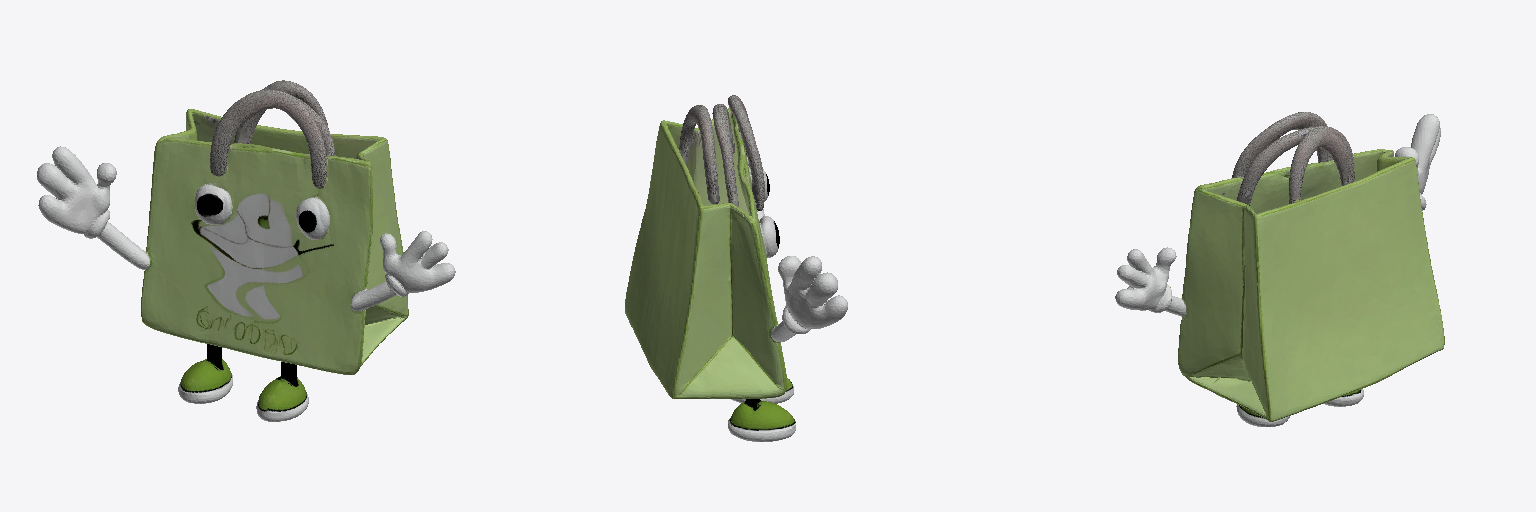
3 renders of one model, left to right at view 1: azimuth 30°, elevation 25°; view 2: azimuth 150°, elevation 25°; view 3: azimuth 270°, elevation 25°, orthographic.
Parts seen in each view (by area): view 1: textured_mesh.obj; view 2: textured_mesh.obj; view 3: textured_mesh.obj.
Part boxes in pixels (x1,y1,x2,y2): textured_mesh.obj: (37,80,455,421); textured_mesh.obj: (625,95,847,441); textured_mesh.obj: (1115,112,1444,426).
Size of the model in its own units: 1.95 by 1.94 by 1.88.
1 materials, 1 textured.